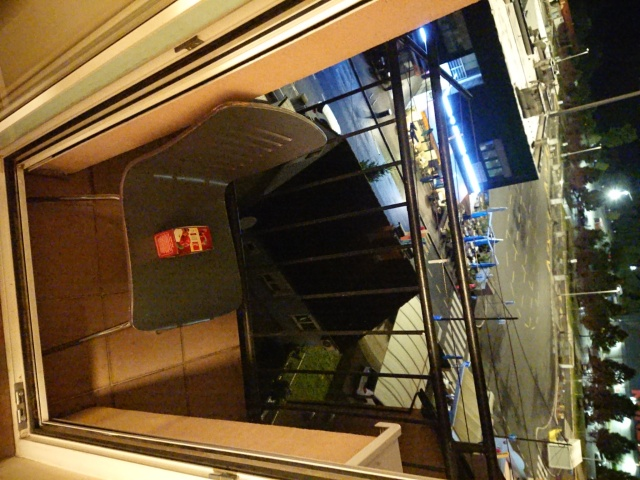Franck Apple Cinnamon Tea 60g: (150, 222, 217, 261)
